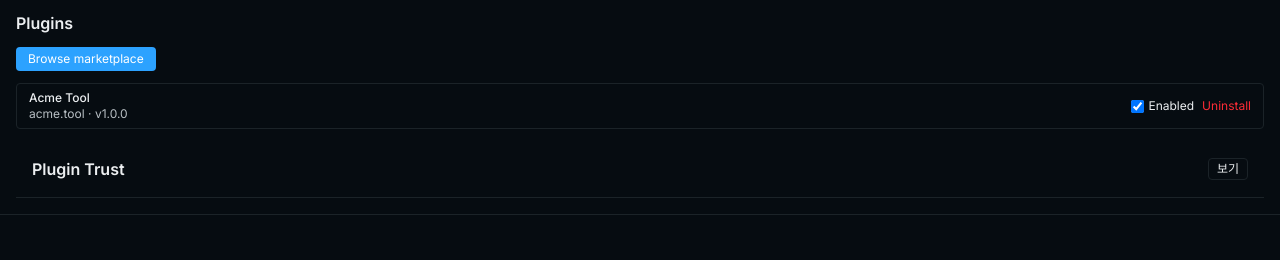
Test: SettingsPlugins › stringifies a non-Error rejection from plugin_uninstall
Expected: the text "Acme Tool" is shown, [29,90,90,105]
What coordinates should you click on to do the following:
click the button "Uninstall"
I would click on:
 (1227, 106)
Its box is [1202,98,1251,114].
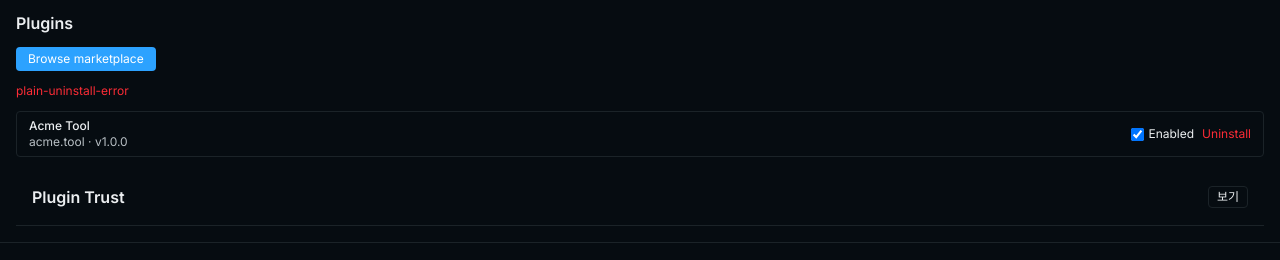
Now the message reads "plain-uninstall-error", box [16,83,129,98]
